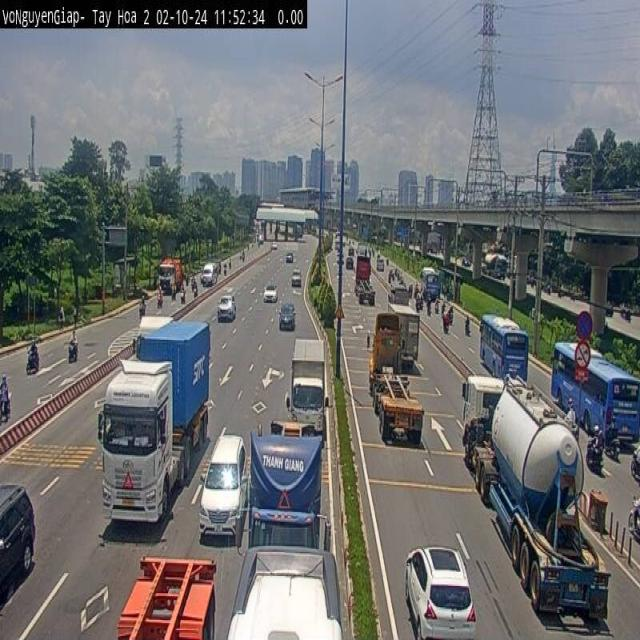bus: (550, 340, 639, 444), (478, 313, 529, 384)
car: (404, 544, 476, 638), (262, 282, 278, 303)
container-truck: (96, 317, 210, 525)
